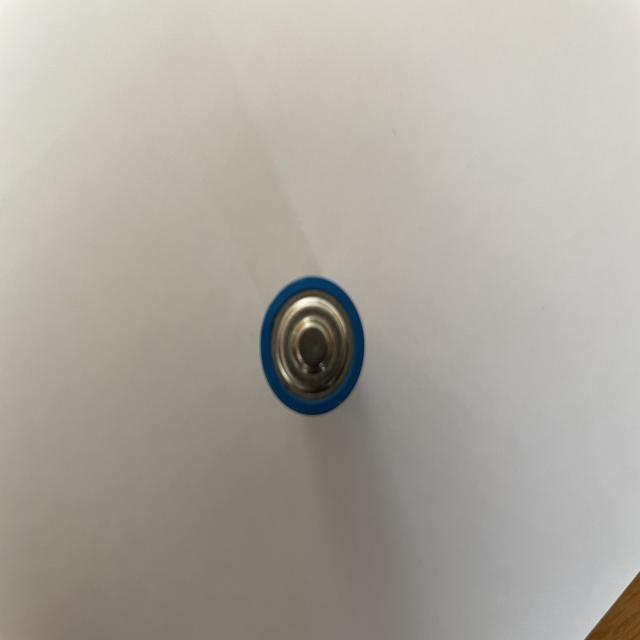hazardous waste: (255, 274, 369, 419)
